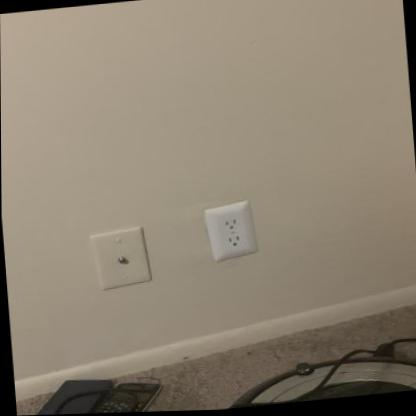OUTLET: (207, 200, 258, 261)
